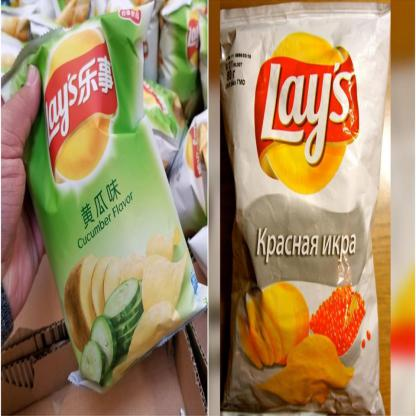potatochip: (0, 3, 212, 398), (214, 0, 393, 415)
